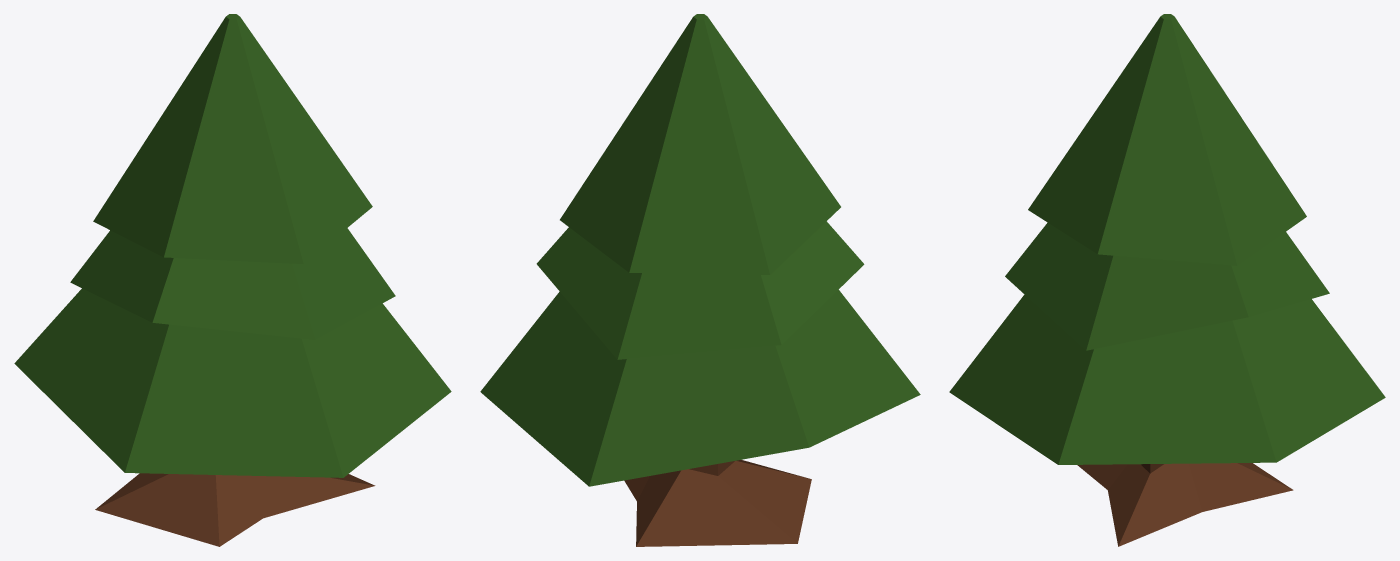
The model's file is Tree#3.fbx.
3 renders of one model, left to right at view 1: azimuth 30°, elevation 25°; view 2: azimuth 150°, elevation 25°; view 3: azimuth 270°, elevation 25°, orthographic.
Parts seen in each view (by area): view 1: Tree#3; view 2: Tree#3; view 3: Tree#3.
Part boxes in pixels (left/top/right/bottom): Tree#3: left=14, top=14, right=451, bottom=546; Tree#3: left=480, top=14, right=920, bottom=546; Tree#3: left=949, top=14, right=1385, bottom=546.
Size of the model in its own units: 582 by 816 by 682.
